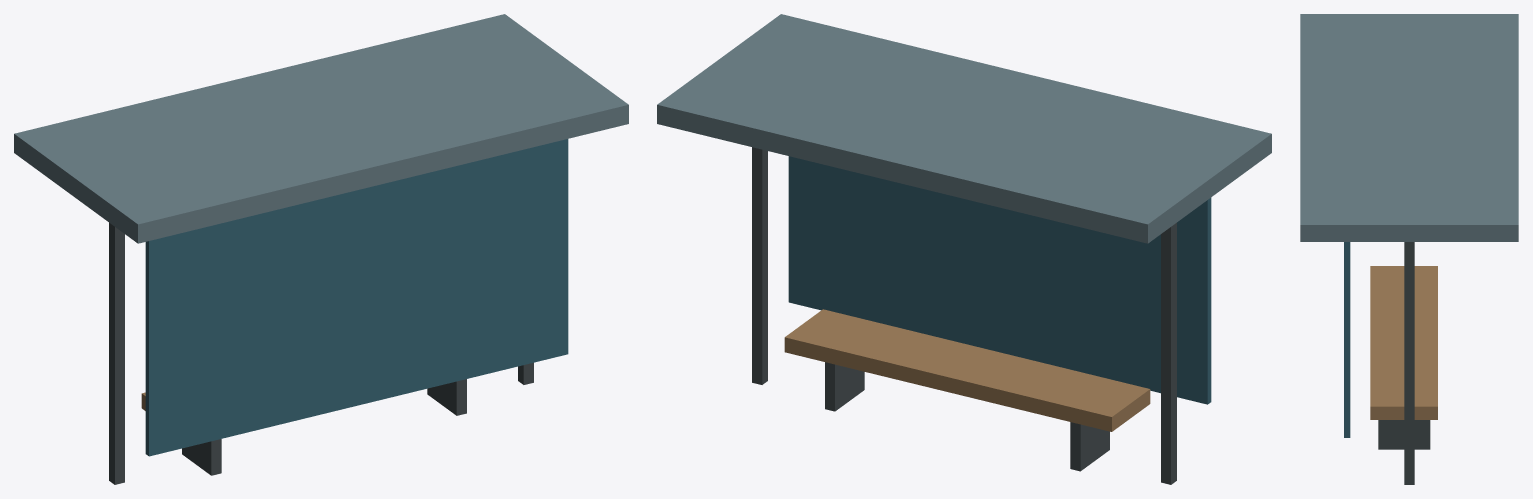
The model's file is bus_shelter.glb.
3 views of the same model, side by side, from view 1: azimuth 30°, elevation 25°; view 2: azimuth 150°, elevation 25°; view 3: azimuth 270°, elevation 25° (orthographic). The views are drawn at different scales.
Parts seen in each view (by area): view 1: bus_shelter; view 2: bus_shelter; view 3: bus_shelter.
Part boxes in pixels (<box>): bus_shelter: <box>14,14,628,484</box>; bus_shelter: <box>657,14,1271,484</box>; bus_shelter: <box>1300,14,1518,484</box>.
Size of the model in its own units: 4.8 by 2.92 by 2.1.
